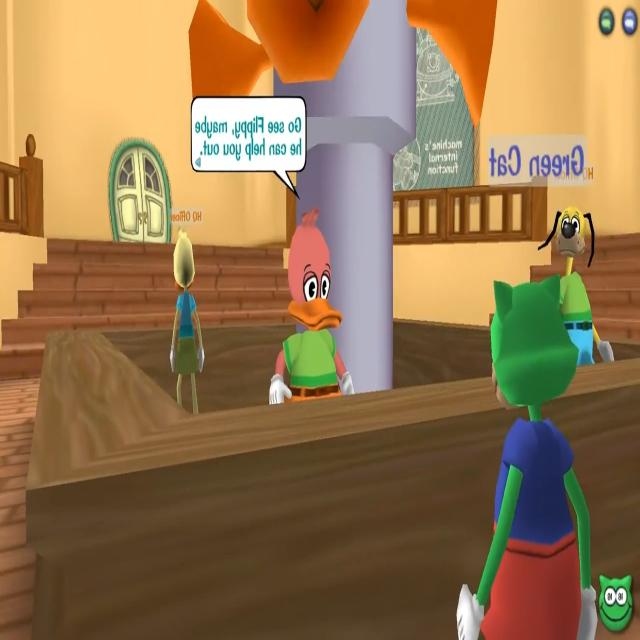npc: (262, 186, 355, 426), (544, 158, 613, 382), (162, 209, 212, 413)
